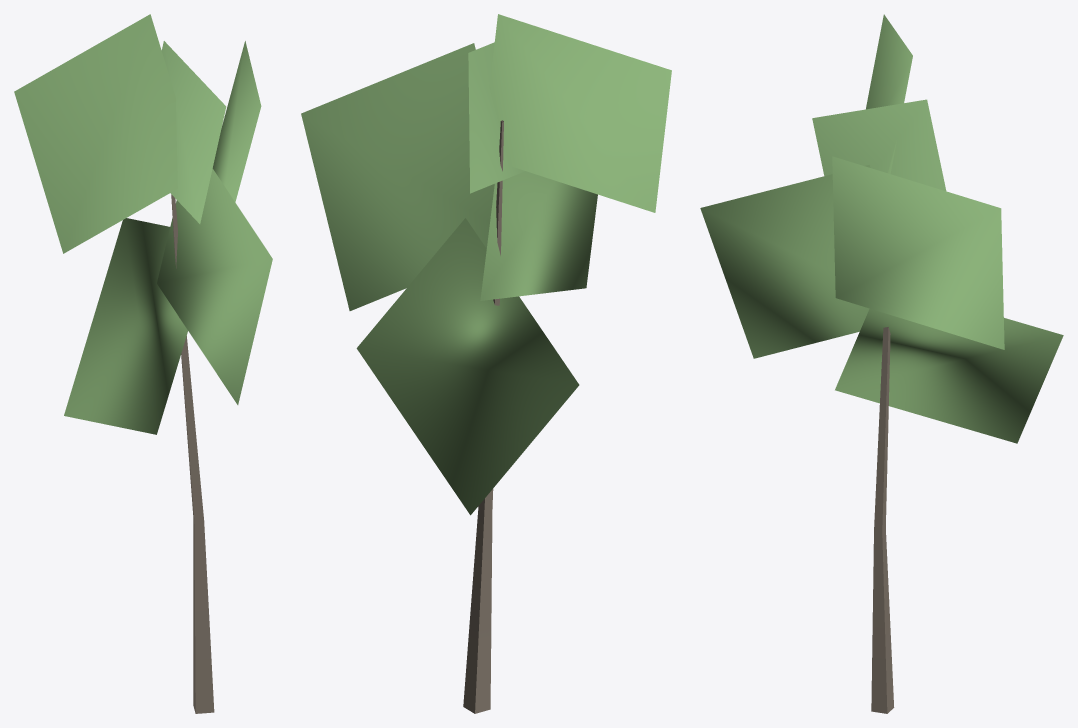
Rendered from tree_birch_a_lod2.glb.
3 views of the same model, side by side, from view 1: azimuth 30°, elevation 25°; view 2: azimuth 150°, elevation 25°; view 3: azimuth 270°, elevation 25° (orthographic). The views are drawn at different scales.
Parts seen in each view (by area): view 1: tree_birch_a_lod2; view 2: tree_birch_a_lod2; view 3: tree_birch_a_lod2.
Part boxes in pixels (x1=…): tree_birch_a_lod2: x1=14, y1=14, x2=272, y2=713; tree_birch_a_lod2: x1=301, y1=14, x2=671, y2=713; tree_birch_a_lod2: x1=700, y1=14, x2=1063, y2=713.
Bounding box in the file's own units: 6.44 × 14.46 × 7.47.
